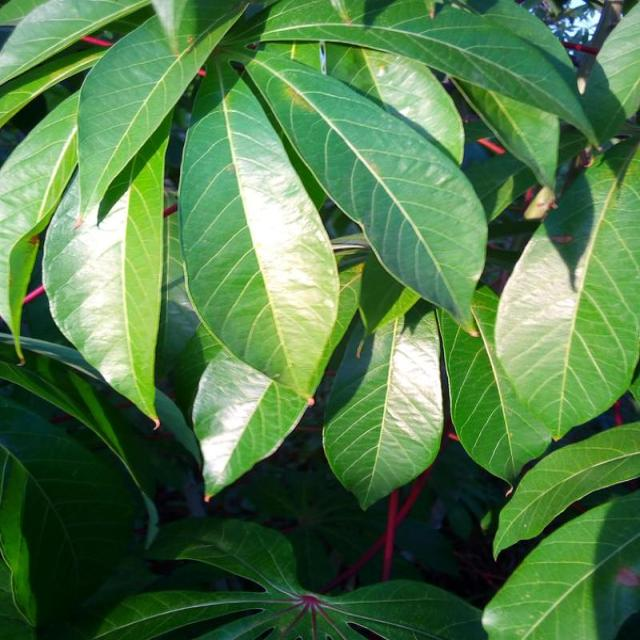cassava leaf: (1, 1, 638, 637), (244, 48, 489, 331), (176, 70, 341, 401), (494, 137, 639, 440), (41, 113, 169, 428), (322, 298, 444, 511)
